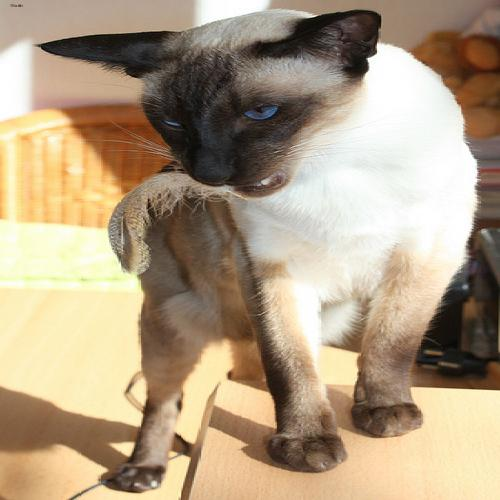siamese: (40, 1, 414, 220)
